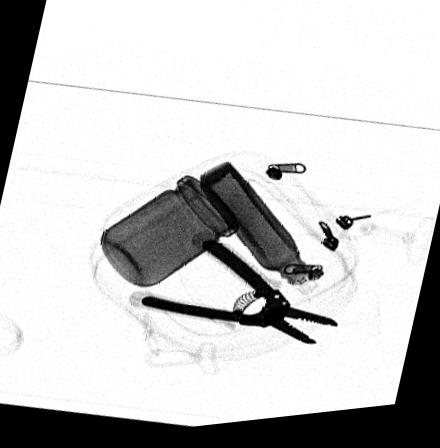Pliers: (137, 242, 339, 351)
